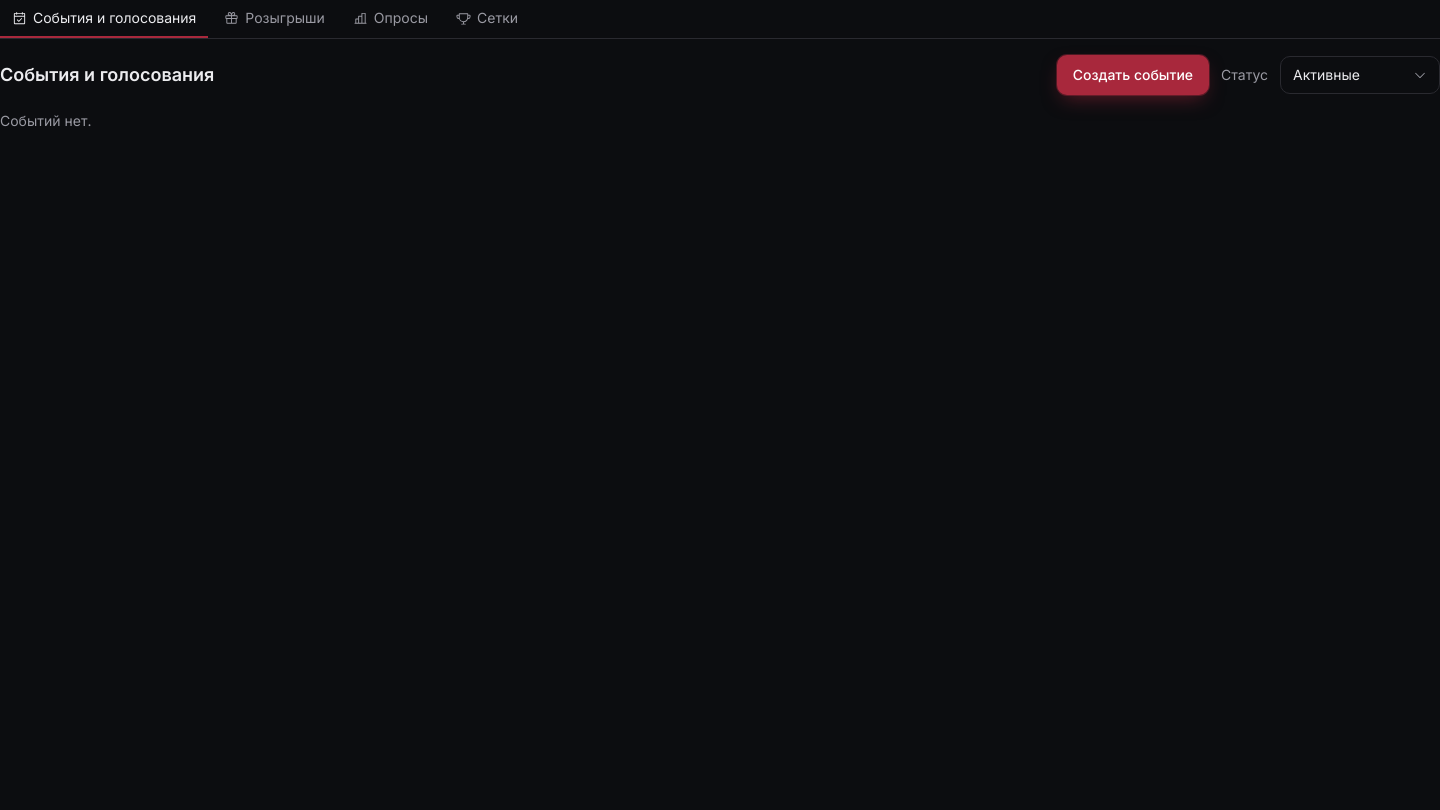
Test case: EventsPage create flow › shows a live preview of the tournament embed as fields are filled in
This screenshot has width=1440, height=810.
Click the button "Создать событие" at (1133, 75), box [1057, 55, 1209, 95]
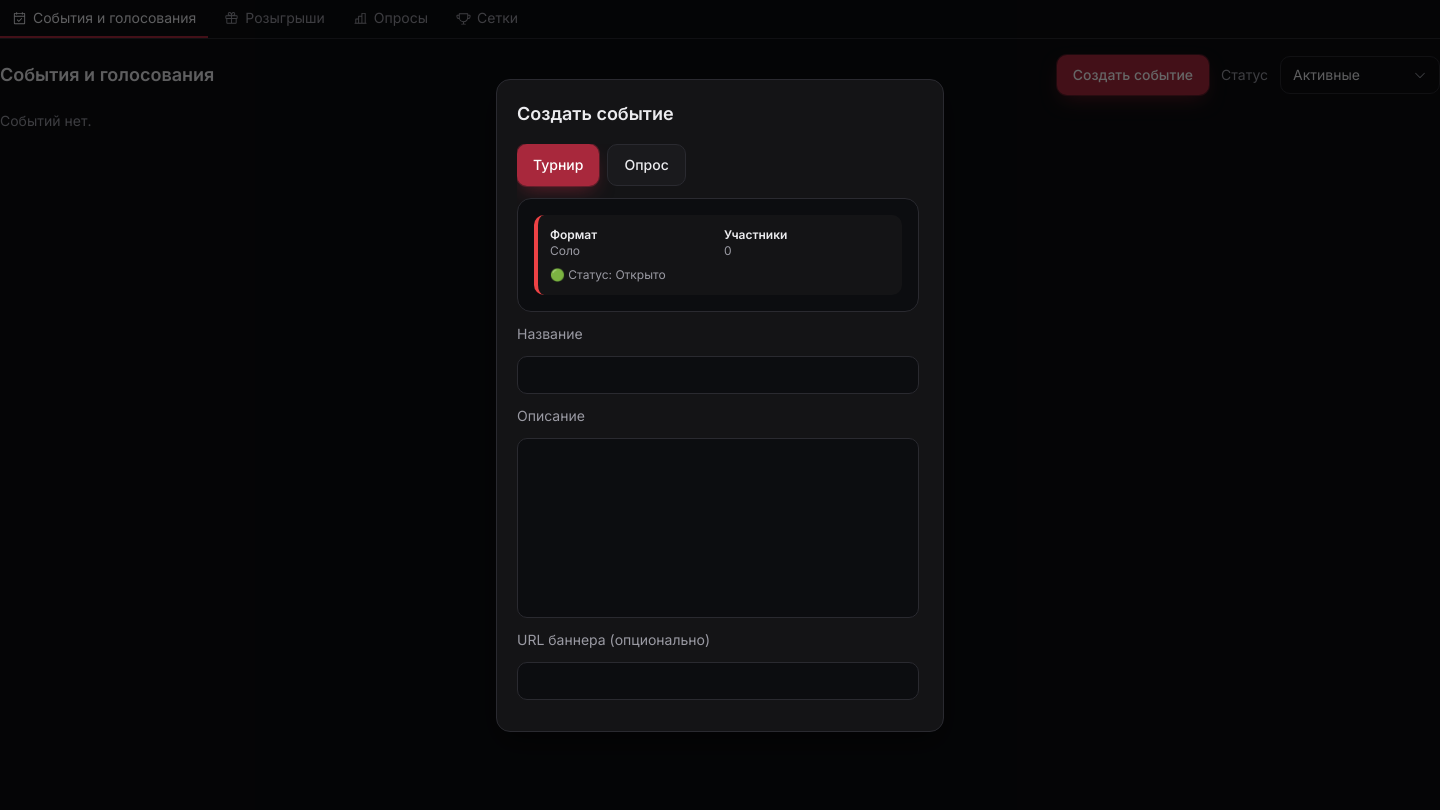
Result: the field labelled "Название" is shown
Type "Летний турнир" into the field labelled "Название" at (718, 374), box [517, 356, 919, 394]
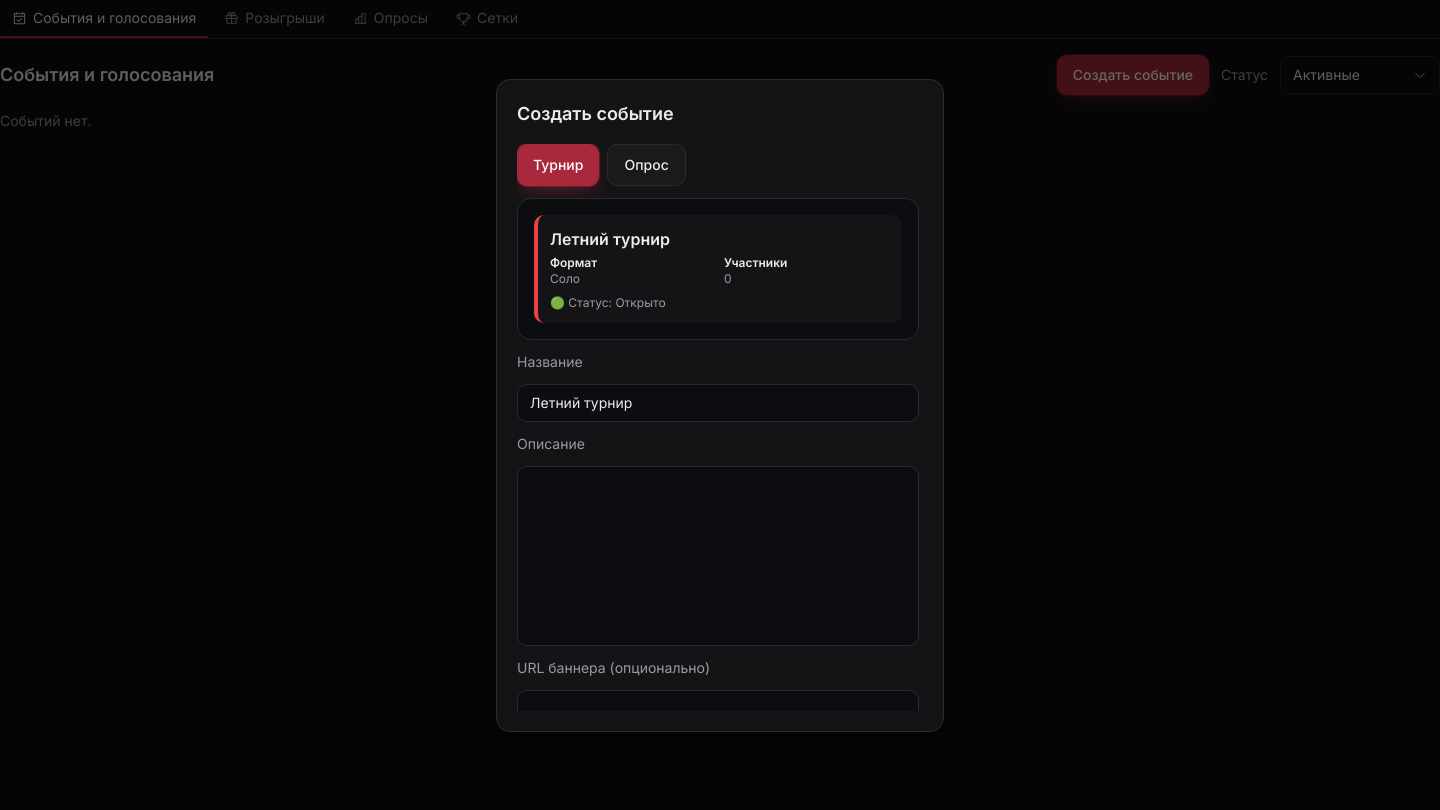
Type "Описание турнира" into the text box labelled "Описание" at (718, 556), box [517, 466, 919, 646]
(page scrolled)
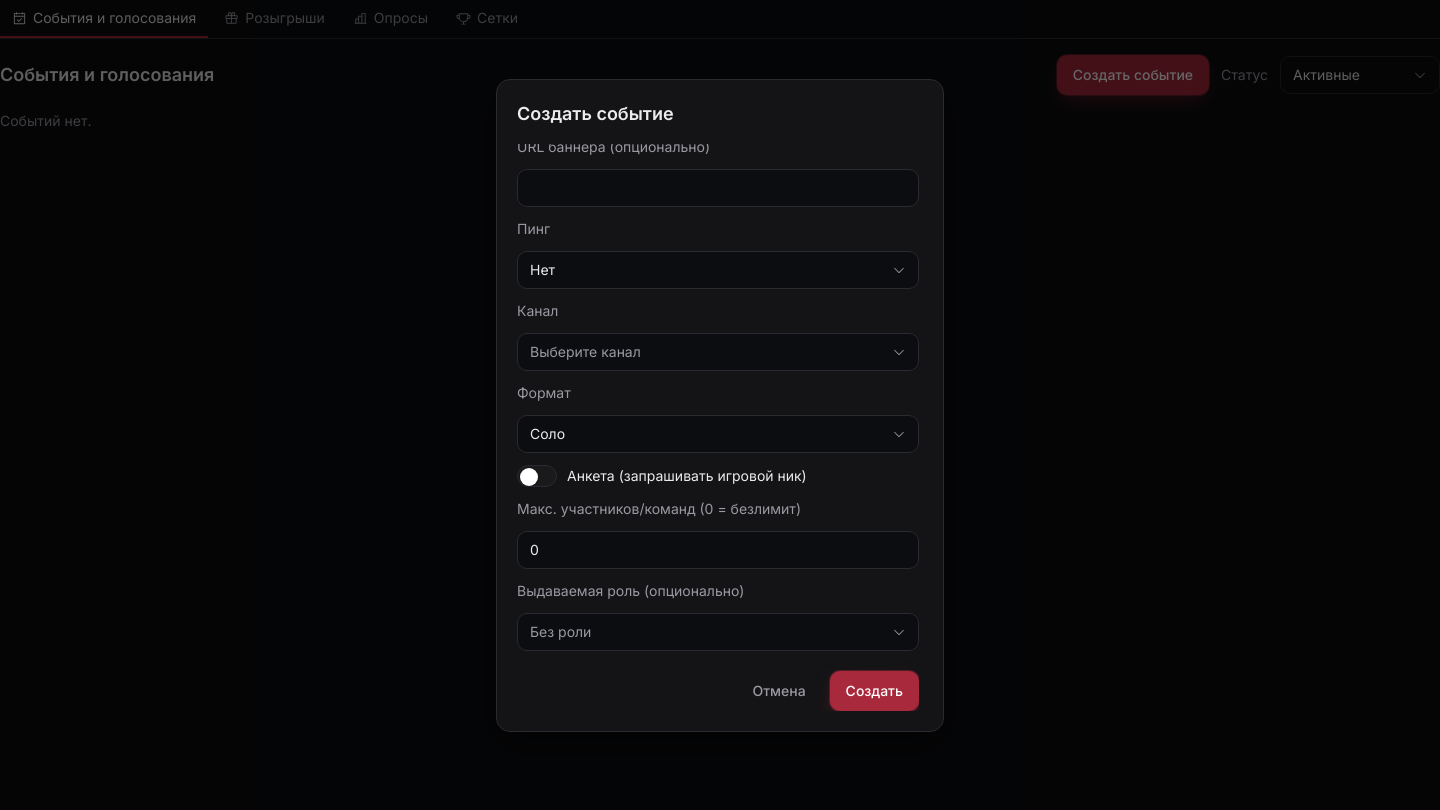
Replace the text in the number field labelled "Макс. участников/команд (0 = безлимит)" with "20" at (718, 550), box [517, 530, 919, 568]
(page scrolled)
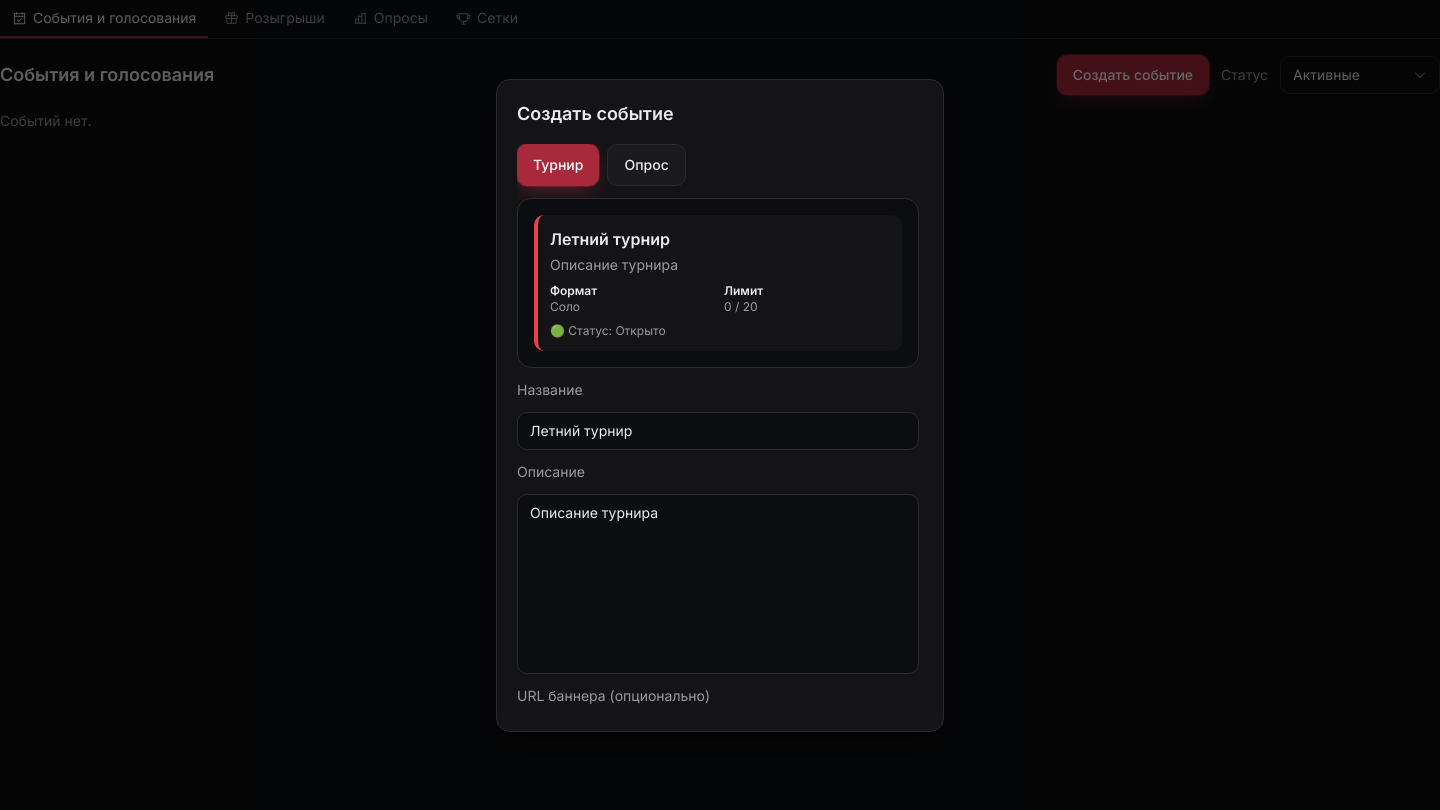
Result: the text "Лимит" is shown at [724, 282, 763, 298]
Result: the text "0 / 20" is shown at [724, 298, 758, 314]
